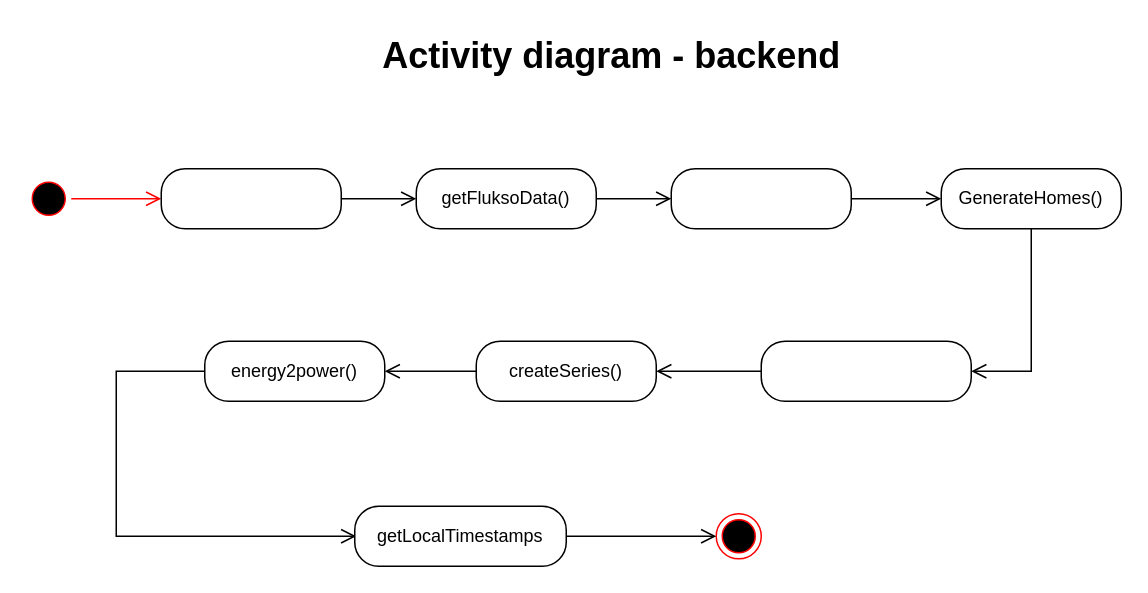
Image size: 1148x593. Some labels were removed from this diagram. Here are the shapes that lost their labels. From the top down, the centre of each, then its label:
(x=250, y=198): getRawFluksoData()
(x=760, y=198): getTmpoSession()
(x=865, y=370): createFluksoPowerDf()
